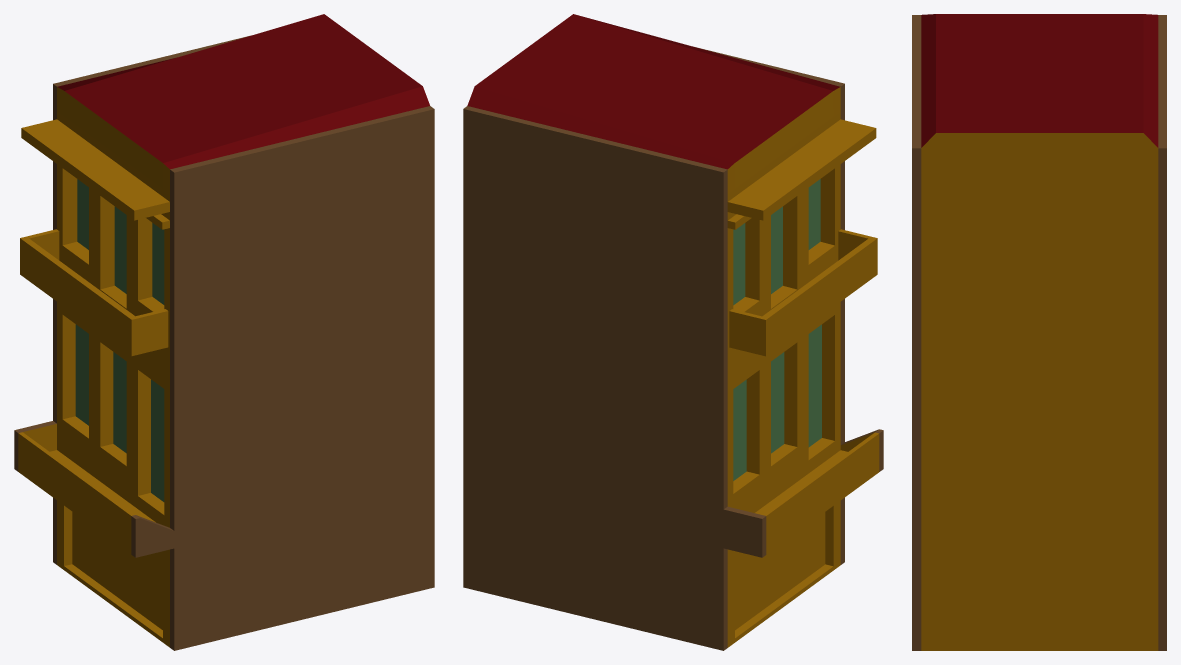
File: oldtube1.fbx
3 views of the same model, side by side, from view 1: azimuth 30°, elevation 25°; view 2: azimuth 150°, elevation 25°; view 3: azimuth 270°, elevation 25° (orthographic). The views are drawn at different scales.
Visible parts, largest first — view 1: tube1; view 2: tube1; view 3: tube1.
Boxes of the visible parts, bbox=[...] form: tube1: bbox=[14, 14, 434, 650]; tube1: bbox=[463, 14, 883, 650]; tube1: bbox=[912, 14, 1166, 650].
Size of the model in its own units: 454 by 716 by 319.
